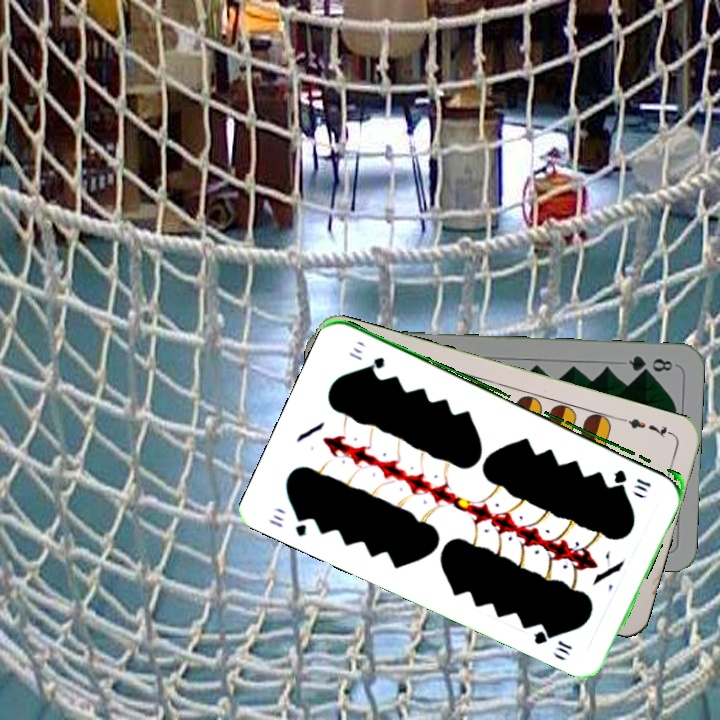E7: (618, 413, 676, 441)
G10: (265, 509, 312, 539), (610, 465, 654, 494)
G8: (624, 351, 675, 376)
